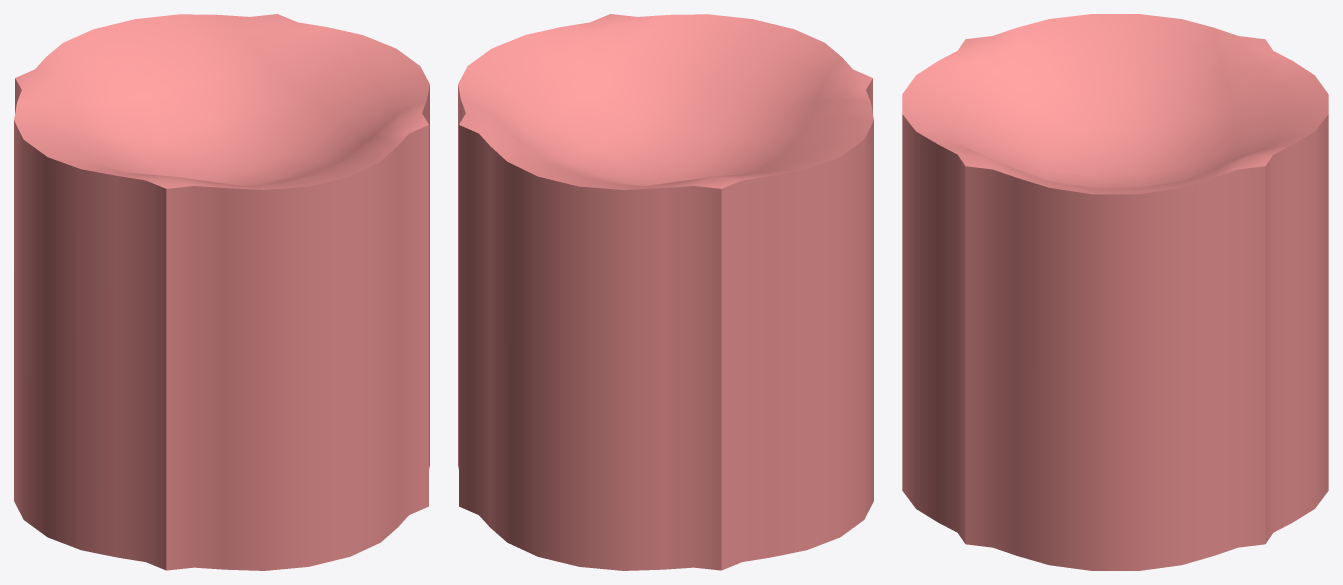
The model's file is totem_base.fbx.
3 views of the same model, side by side, from view 1: azimuth 30°, elevation 25°; view 2: azimuth 150°, elevation 25°; view 3: azimuth 270°, elevation 25° (orthographic).
Parts seen in each view (by area): view 1: pCube1; view 2: pCube1; view 3: pCube1.
Boxes of the visible parts, <box> form: pCube1: <box>14,14,429,570</box>; pCube1: <box>458,14,873,570</box>; pCube1: <box>902,14,1328,570</box>.
Size of the model in its own units: 1.97 by 1.93 by 1.97.
